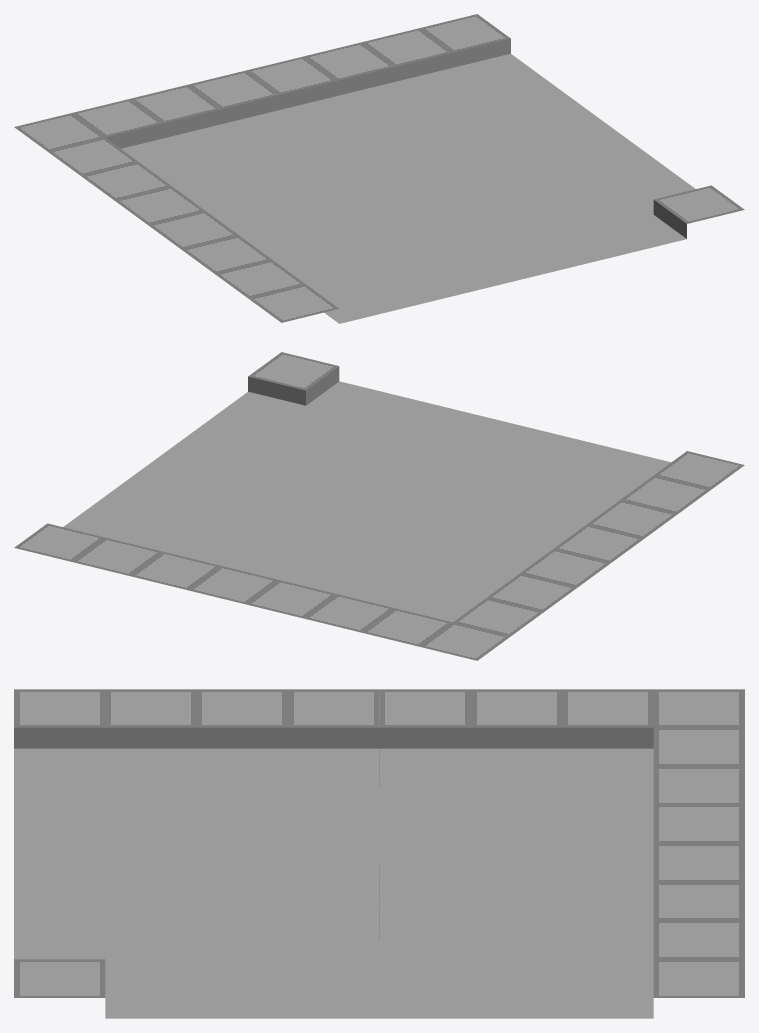
Rendered from Right_Angle Turn.gltf.
3 views of the same model, one above another, from view 1: azimuth 30°, elevation 25°; view 2: azimuth 150°, elevation 25°; view 3: azimuth 270°, elevation 25° (orthographic). The views are drawn at different scales.
Parts seen in each view (by area): view 1: Right Angle Turn; view 2: Right Angle Turn; view 3: Right Angle Turn.
Boxes of the visible parts, x1=… form: Right Angle Turn: x1=14, y1=14, x2=744, y2=323; Right Angle Turn: x1=14, y1=352, x2=744, y2=660; Right Angle Turn: x1=14, y1=689, x2=744, y2=1018.
Bounding box in the file's own units: 8 × 0.25 × 8.
1 material, 1 textured.
